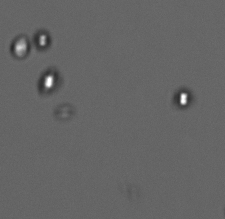Living Cell: (37, 67, 61, 93), (10, 34, 31, 60), (32, 30, 51, 50), (174, 87, 192, 108)
